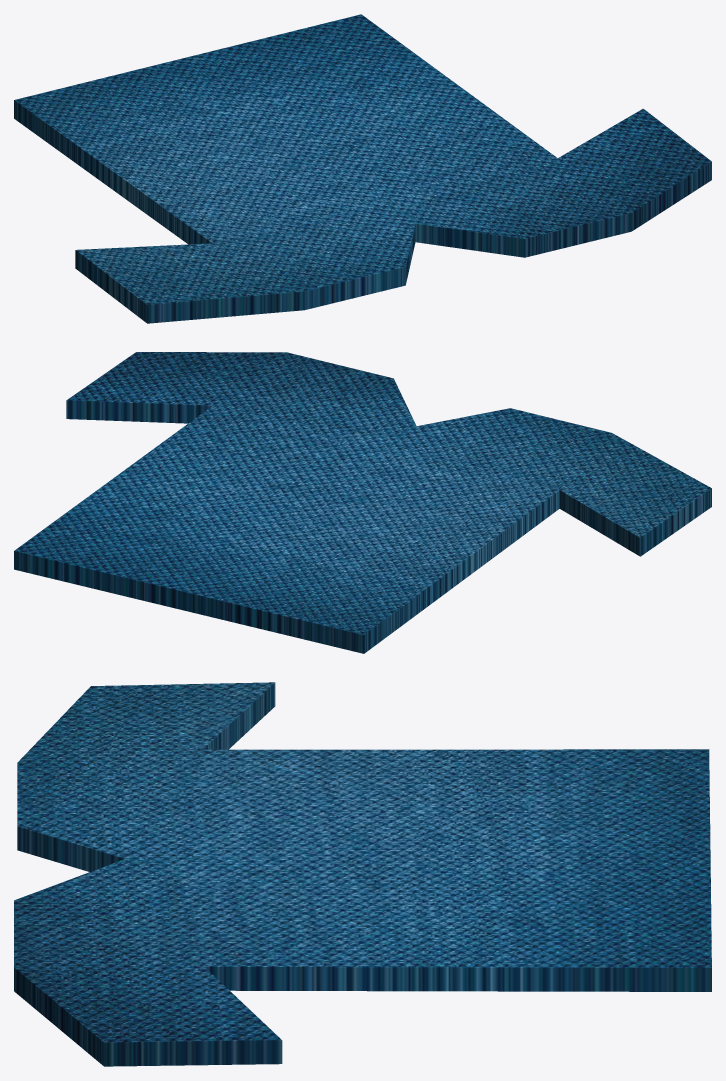
Rendered from uniforme.fbx.
The picture shows the model from 3 angles, top to bottom: view 1: azimuth 30°, elevation 25°; view 2: azimuth 150°, elevation 25°; view 3: azimuth 270°, elevation 25°; orthographic projection. The views are drawn at different scales.
Visible parts, largest first — view 1: Plane; view 2: Plane; view 3: Plane.
Part boxes in pixels (x1,y1,x2,y2): Plane: (14, 14, 711, 323); Plane: (14, 352, 711, 653); Plane: (14, 682, 711, 1066).
Bounding box in the file's own units: 32.79 × 1.22 × 27.01.
Materials: 1 (1 with a texture image).
